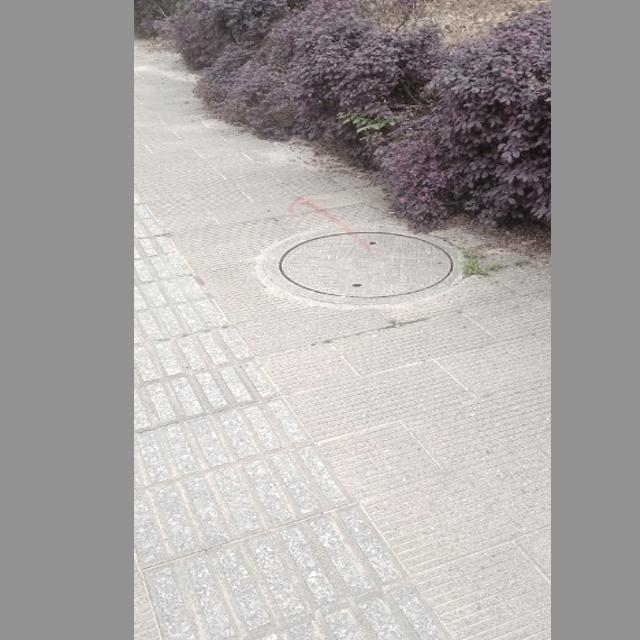good: (262, 224, 462, 300)
